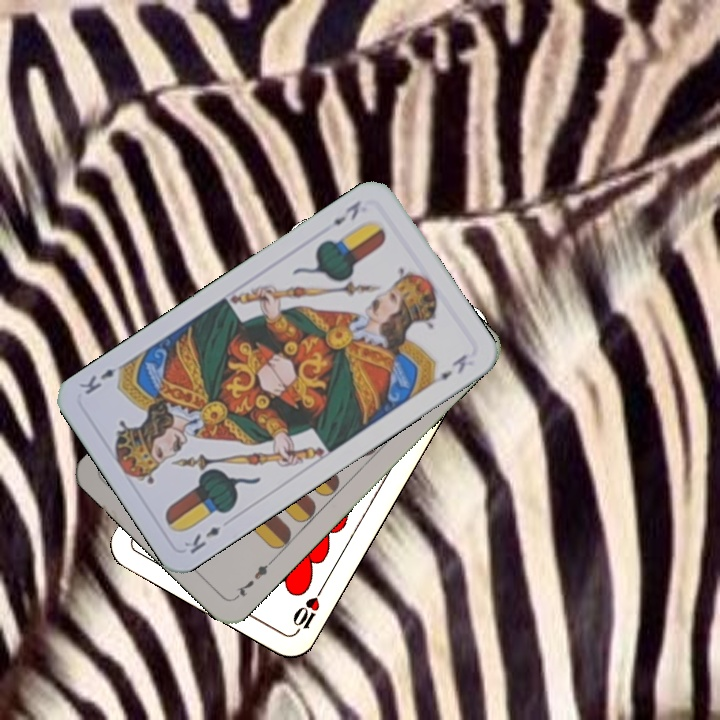E7: (230, 555, 276, 602)
EK: (318, 196, 364, 233), (180, 522, 223, 557)
H10: (288, 582, 327, 636)
